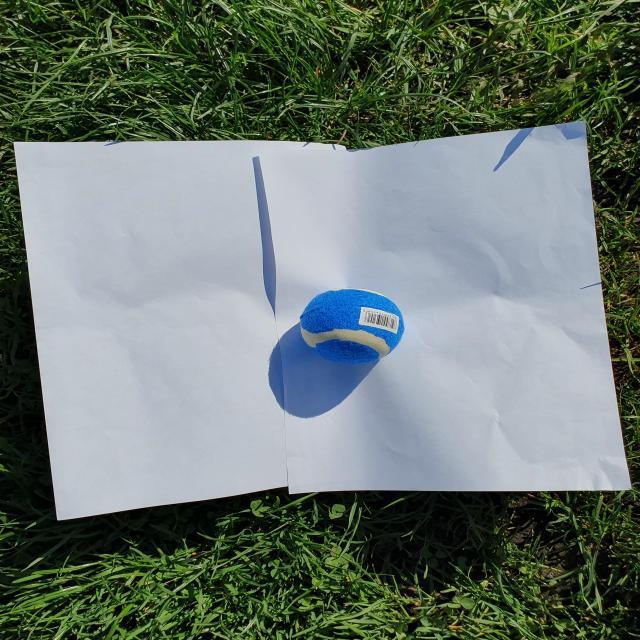blue: (300, 287, 404, 365)
